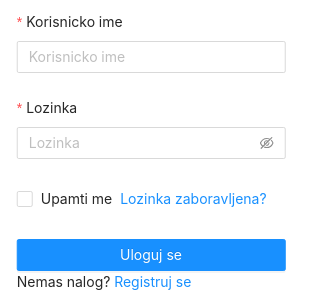
it: LoginForm Component › should render required fields error
Click the button "Uloguj se" at (151, 255), box [17, 239, 285, 271]
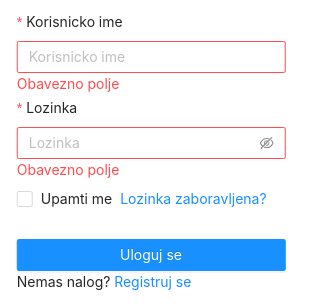
expect the text "Obavezno polje" is shown 2 times: met, box [17, 75, 119, 92]; [17, 161, 119, 178]
